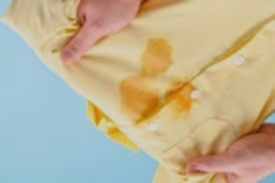mustard: (118, 78, 162, 119), (143, 38, 172, 81), (166, 83, 192, 116)
